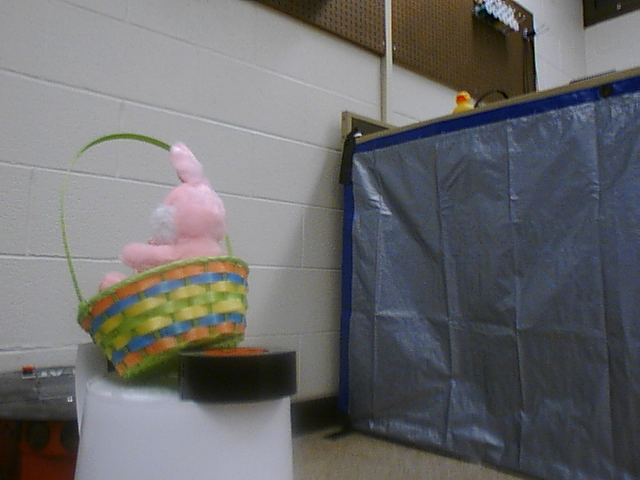bunny: (49, 130, 257, 389)
